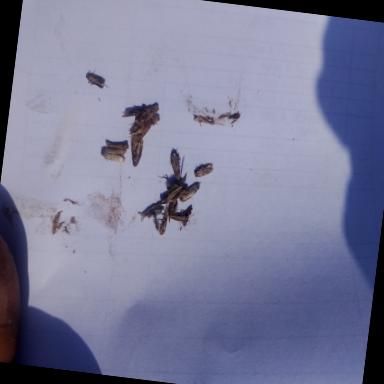pbw: (121, 100, 159, 122), (126, 115, 153, 144), (136, 201, 164, 224), (150, 204, 170, 236), (160, 184, 187, 207), (127, 134, 144, 168), (84, 68, 110, 90), (99, 145, 127, 165), (179, 179, 201, 204), (167, 148, 184, 180), (192, 161, 214, 181), (178, 206, 194, 232), (168, 208, 186, 228), (104, 140, 129, 150)
